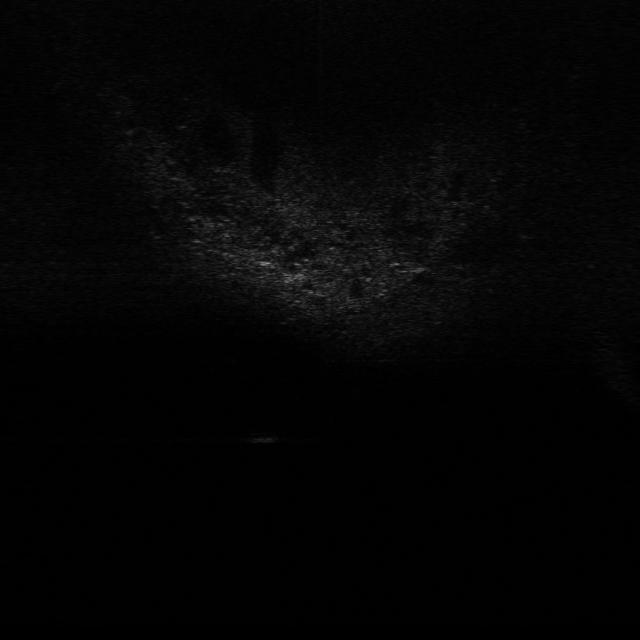cube: (242, 430, 283, 446)
